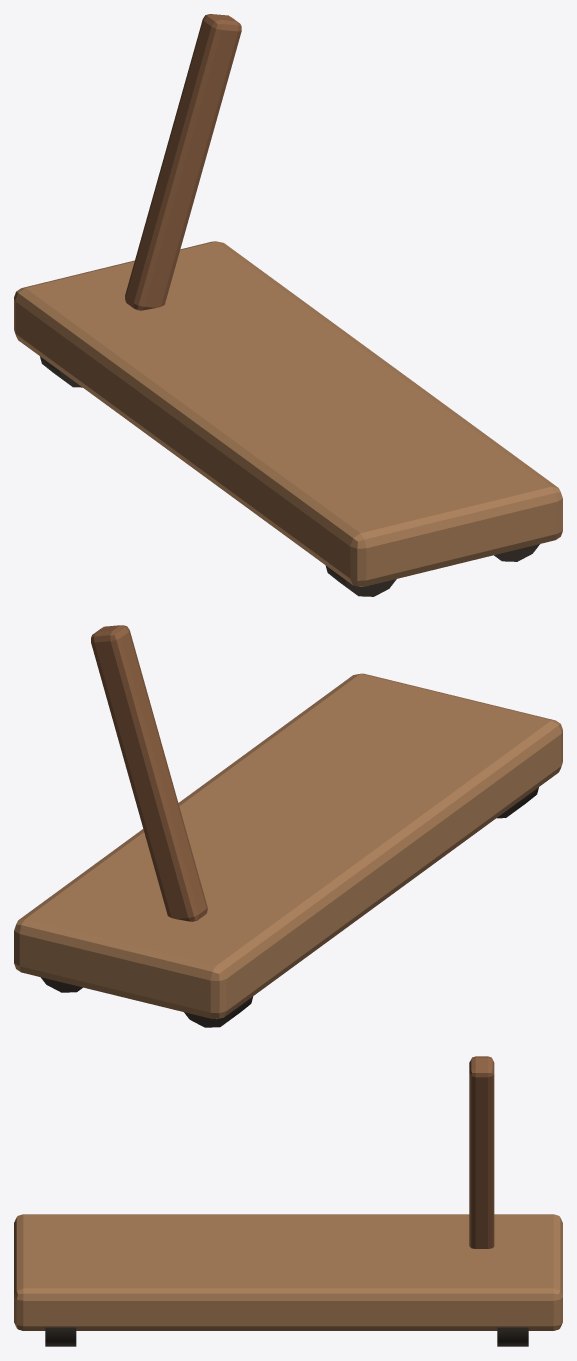
File: SM_Menu_SceneryWagonBase.fbx
3 views of the same model, one above another, from view 1: azimuth 30°, elevation 25°; view 2: azimuth 150°, elevation 25°; view 3: azimuth 270°, elevation 25° (orthographic). The views are drawn at different scales.
Parts seen in each view (by area): view 1: Timber.069_Baked; view 2: Timber.069_Baked; view 3: Timber.069_Baked.
Boxes of the visible parts, bbox=[...] form: Timber.069_Baked: bbox=[14, 14, 562, 596]; Timber.069_Baked: bbox=[14, 625, 562, 1027]; Timber.069_Baked: bbox=[14, 1056, 562, 1346].
Size of the model in its own units: 62 by 176 by 97.75.
